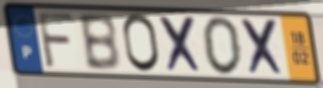B: (76, 12, 123, 73)
F: (35, 10, 76, 71)
O: (200, 15, 245, 78), (121, 12, 163, 75)
X: (157, 14, 206, 76), (239, 17, 288, 79)
